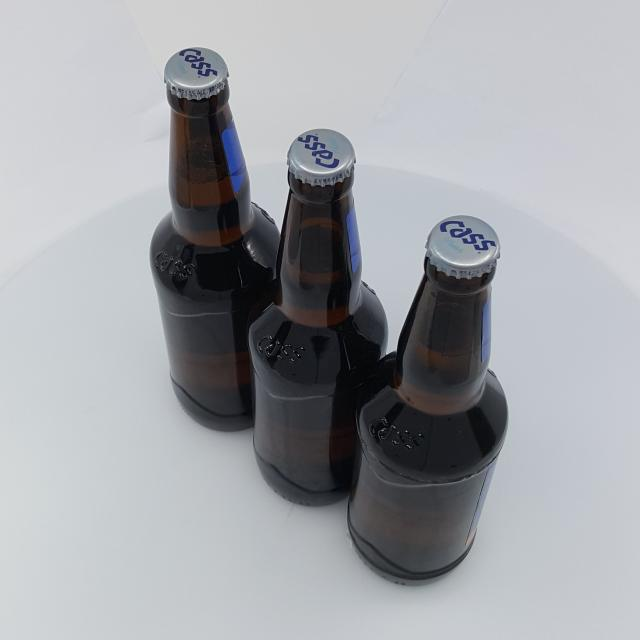beer-bottle: (347, 215, 508, 586), (247, 128, 390, 507), (149, 47, 284, 432)
